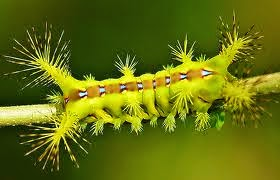ulat_api: (135, 25, 236, 180)
